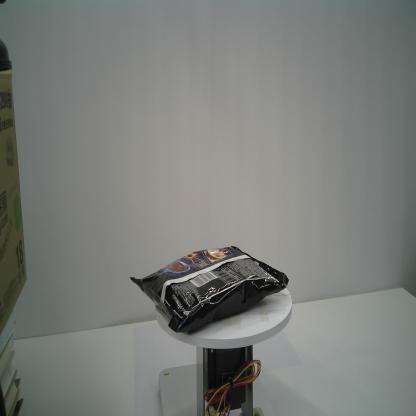Instant Noodles: (128, 240, 290, 336)
